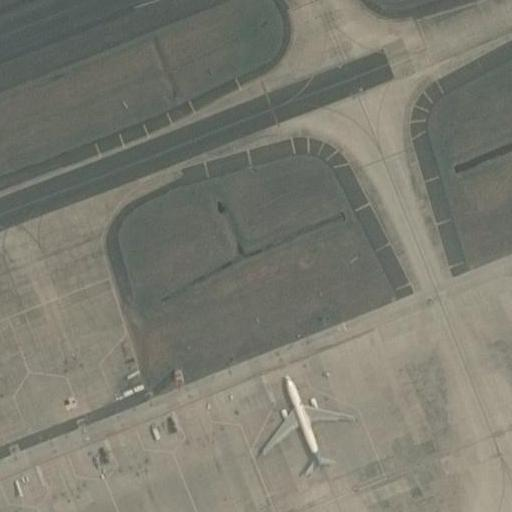Aircraft: (248, 369, 359, 484)
